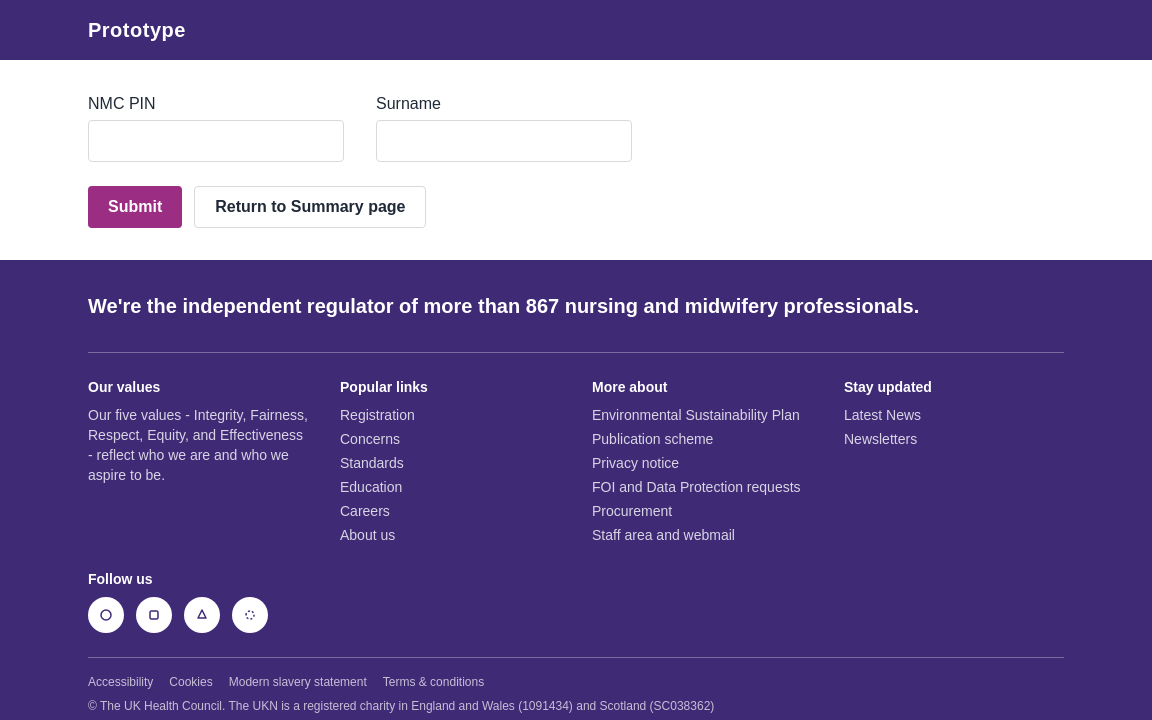
AddSignatoryPage › shows an inline mismatch error and does not navigate on a wrong surname
Type "26H0401Z" into the field labelled "NMC PIN" at [216, 141], box [88,120,344,162]
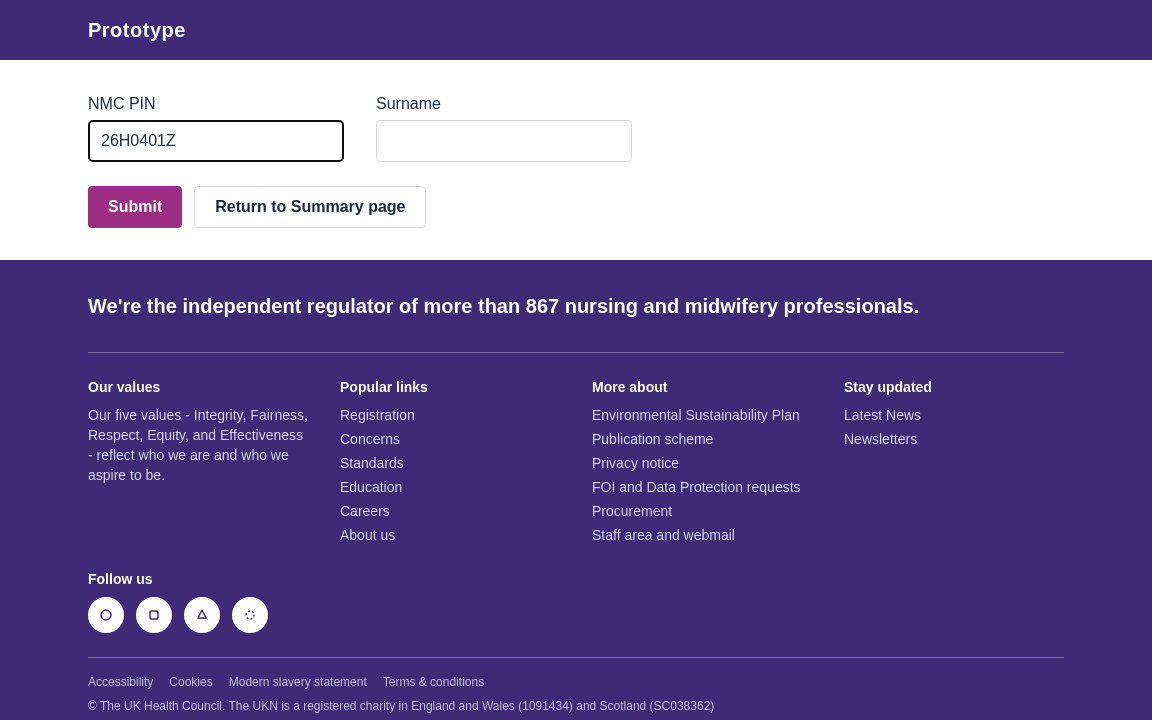
Type "WrongName" into the field labelled "Surname" at [504, 141], box [376,120,632,162]
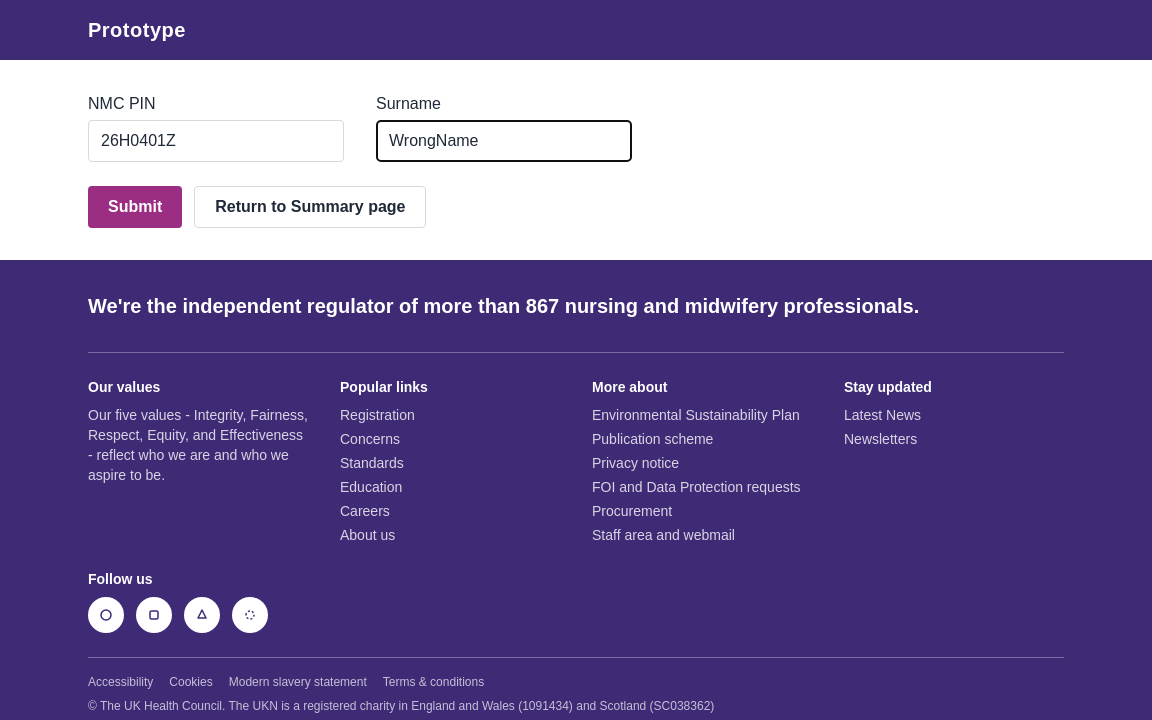
Click the button "Submit" at [135, 207], box [88,186,182,228]
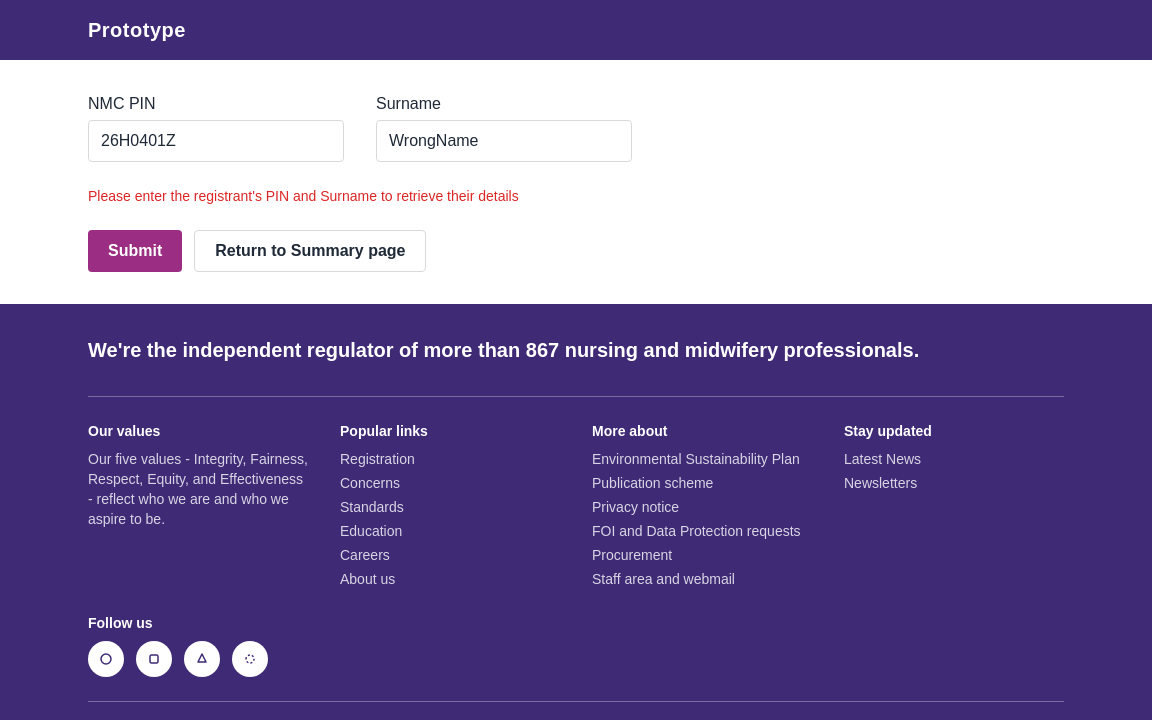
Expected: the text "Please enter the registrant's PIN and Surname" is shown, [88,188,519,204]
